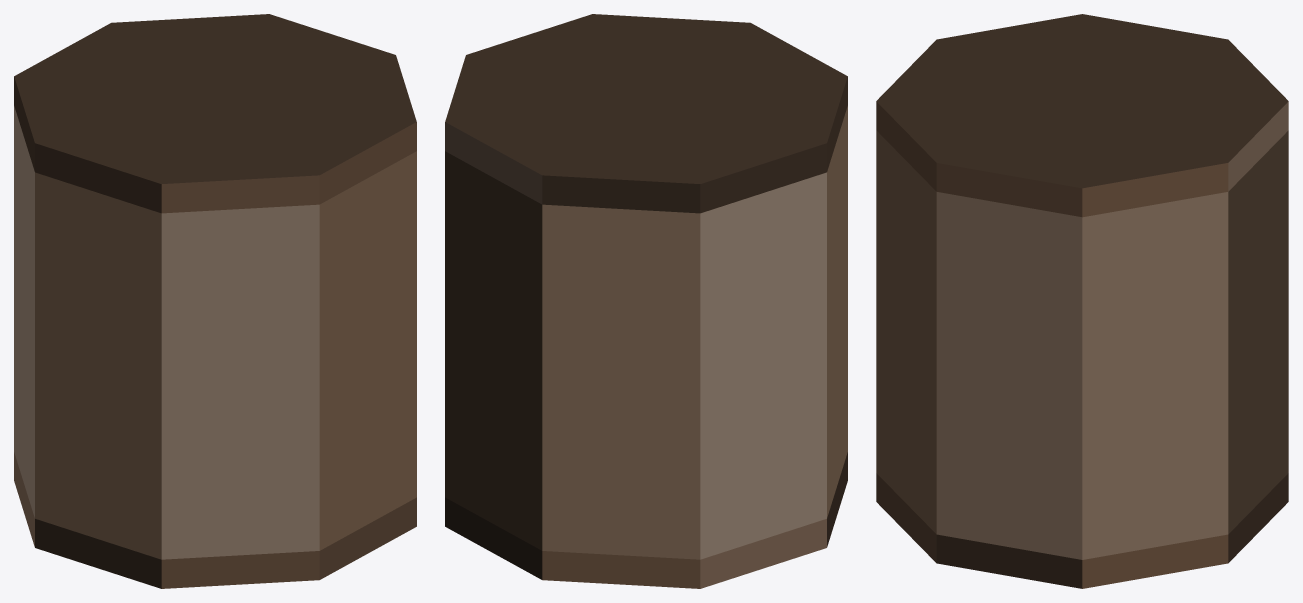
File: Prop_ContainerC.fbx
The picture shows the model from 3 angles, left to right: view 1: azimuth 30°, elevation 25°; view 2: azimuth 150°, elevation 25°; view 3: azimuth 270°, elevation 25°; orthographic projection.
Parts seen in each view (by area): view 1: Prop_ContainerC; view 2: Prop_ContainerC; view 3: Prop_ContainerC.
Boxes of the visible parts, left/top/right/bottom form: Prop_ContainerC: left=14, top=14, right=416, bottom=588; Prop_ContainerC: left=445, top=14, right=847, bottom=588; Prop_ContainerC: left=876, top=14, right=1288, bottom=588.
Size of the model in its own units: 35 by 37.5 by 35.
